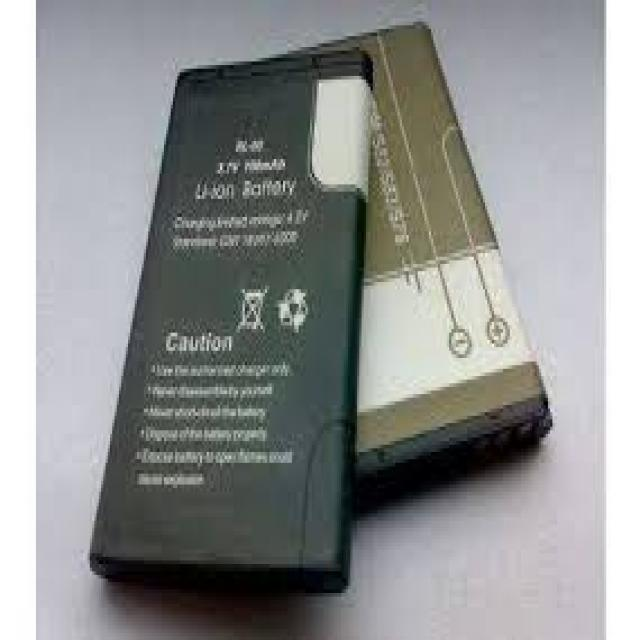non-organic waste: (91, 51, 373, 600), (324, 22, 551, 514)
